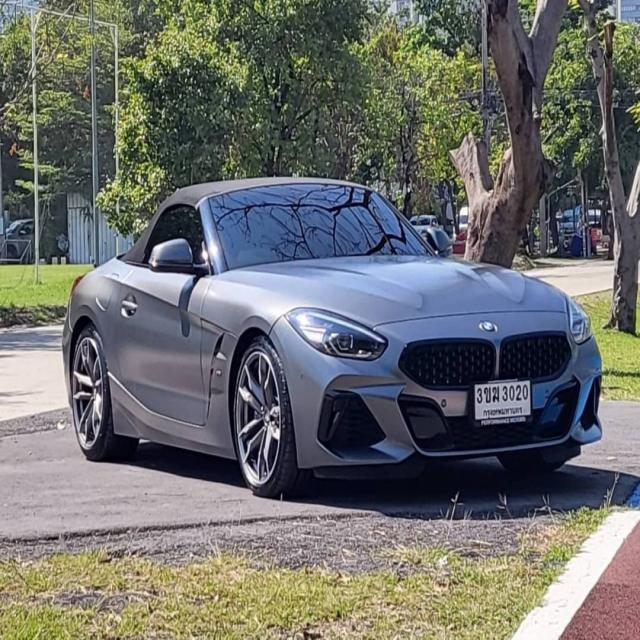license_plate: (469, 378, 534, 432)
